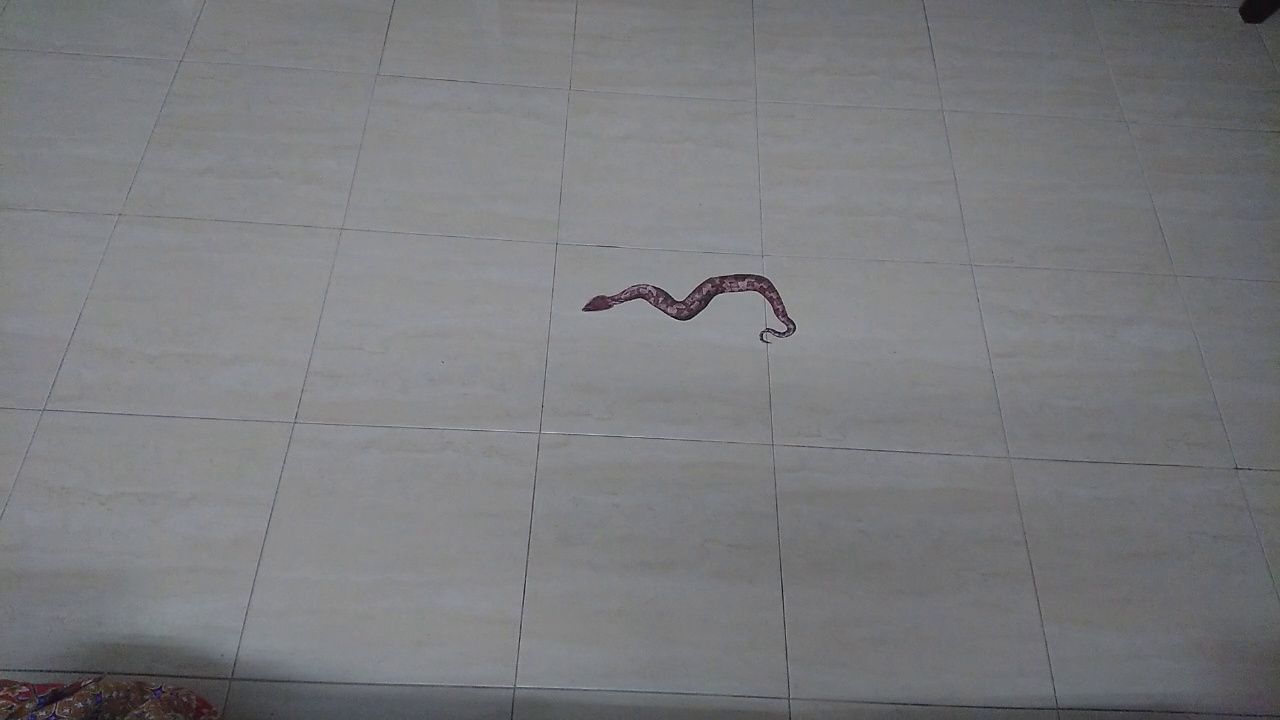snake: (572, 259, 812, 358)
